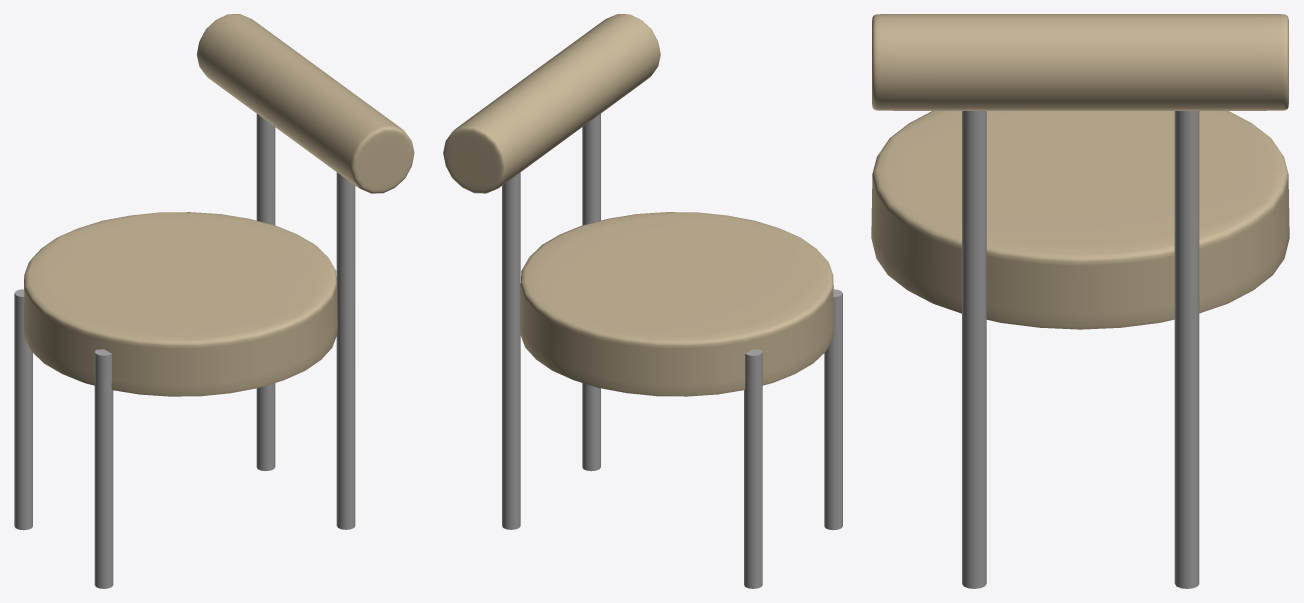
Rendered from Totem_Dining_Chair__Champagne.fbx.
3 views of the same model, side by side, from view 1: azimuth 30°, elevation 25°; view 2: azimuth 150°, elevation 25°; view 3: azimuth 270°, elevation 25° (orthographic). The views are drawn at different scales.
Parts seen in each view (by area): view 1: Totem; view 2: Totem; view 3: Totem.
Boxes of the visible parts, <box> form: Totem: <box>14,14,414,588</box>; Totem: <box>443,14,842,588</box>; Totem: <box>871,14,1289,588</box>.
Bounding box in the file's own units: 53.72 × 74.5 × 49.98.
